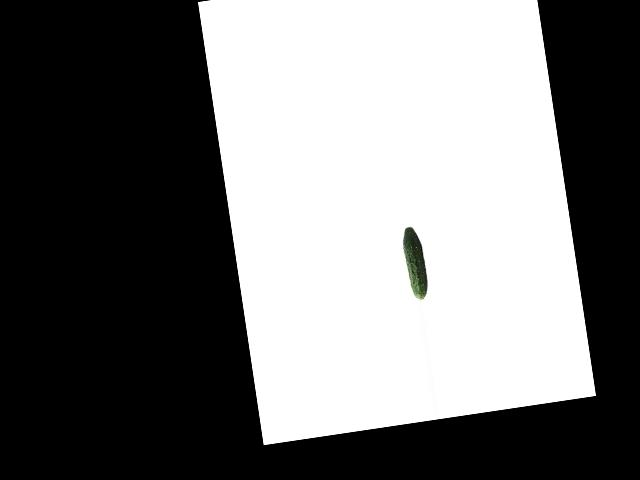cucumber: (400, 225, 430, 301)
